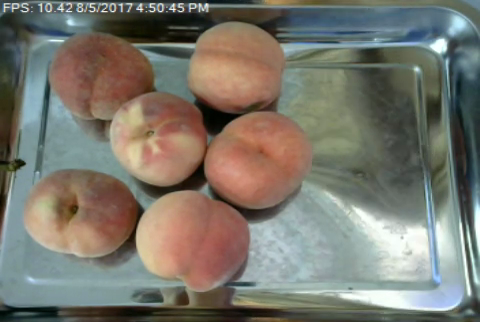Peach: (134, 190, 248, 289), (24, 168, 139, 257), (206, 111, 309, 209), (106, 90, 209, 186), (47, 30, 156, 120), (187, 21, 284, 113)
